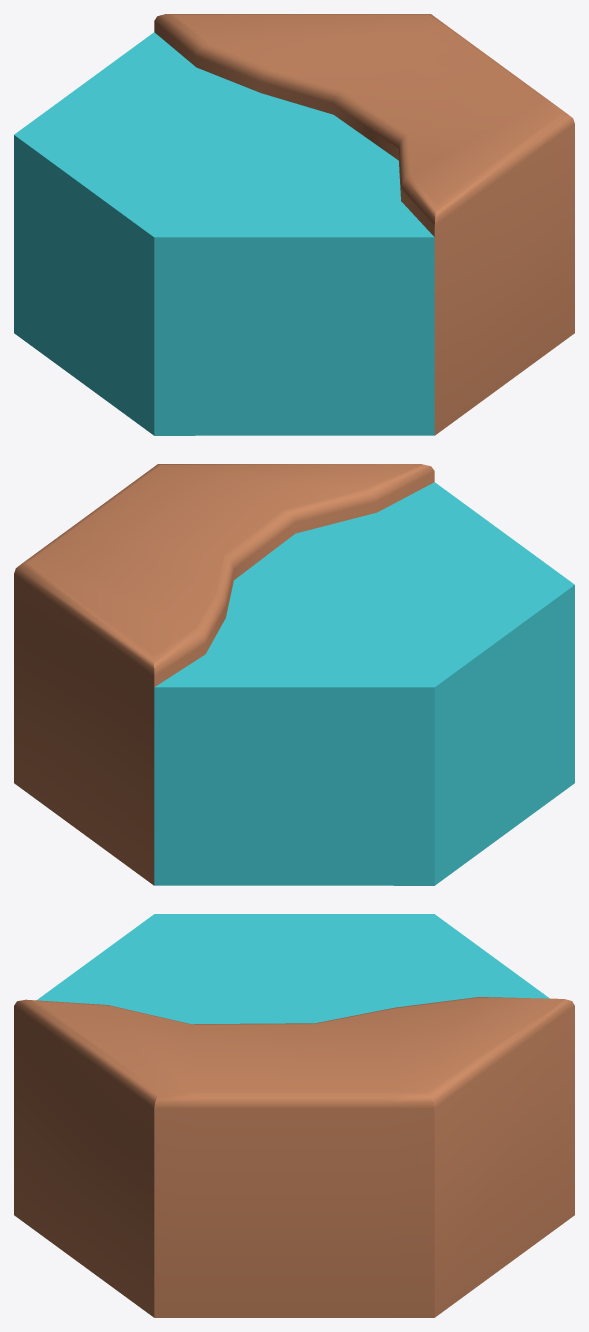
The model's file is hex_rock_waterC.glb.
3 views of the same model, one above another, from view 1: azimuth 30°, elevation 25°; view 2: azimuth 150°, elevation 25°; view 3: azimuth 270°, elevation 25° (orthographic).
Visible parts, largest first — view 1: hex_rock_waterC; view 2: hex_rock_waterC; view 3: hex_rock_waterC.
Boxes of the visible parts, x1,y1,x2,y2 form: hex_rock_waterC: (14,14,574,435); hex_rock_waterC: (14,464,574,885); hex_rock_waterC: (14,914,574,1317).
Bounding box in the file's own units: 2.4 × 1.2 × 2.77.
